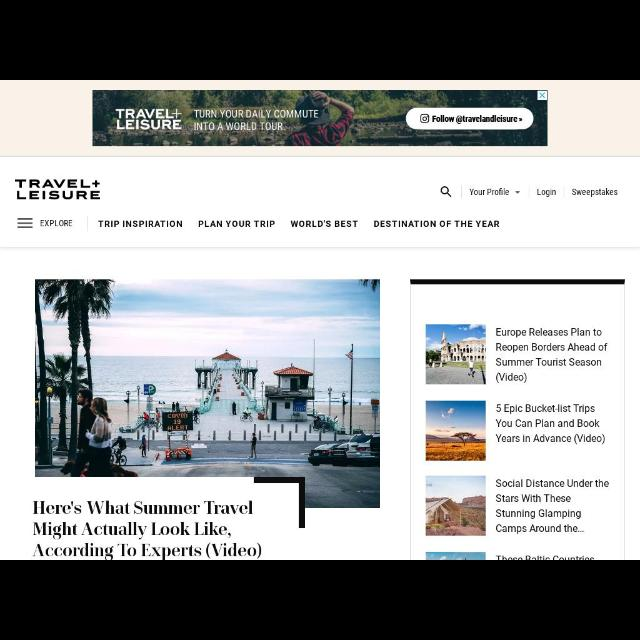icon: (16, 218, 34, 230), (440, 186, 452, 198), (514, 189, 520, 195)
iframe: (93, 91, 549, 147)
image: (35, 279, 381, 507), (424, 475, 486, 537), (425, 324, 487, 384), (426, 401, 486, 461), (15, 178, 101, 202), (426, 552, 484, 560)
multitab: (39, 218, 501, 228), (468, 187, 620, 199)
spinner: (468, 187, 522, 199)
text: (35, 502, 262, 558), (494, 478, 610, 534), (494, 328, 608, 382), (494, 403, 606, 445), (372, 217, 501, 229), (198, 217, 274, 229), (96, 218, 182, 228), (290, 219, 358, 229), (572, 188, 618, 198), (468, 187, 509, 197), (39, 218, 73, 228), (536, 188, 558, 198)
